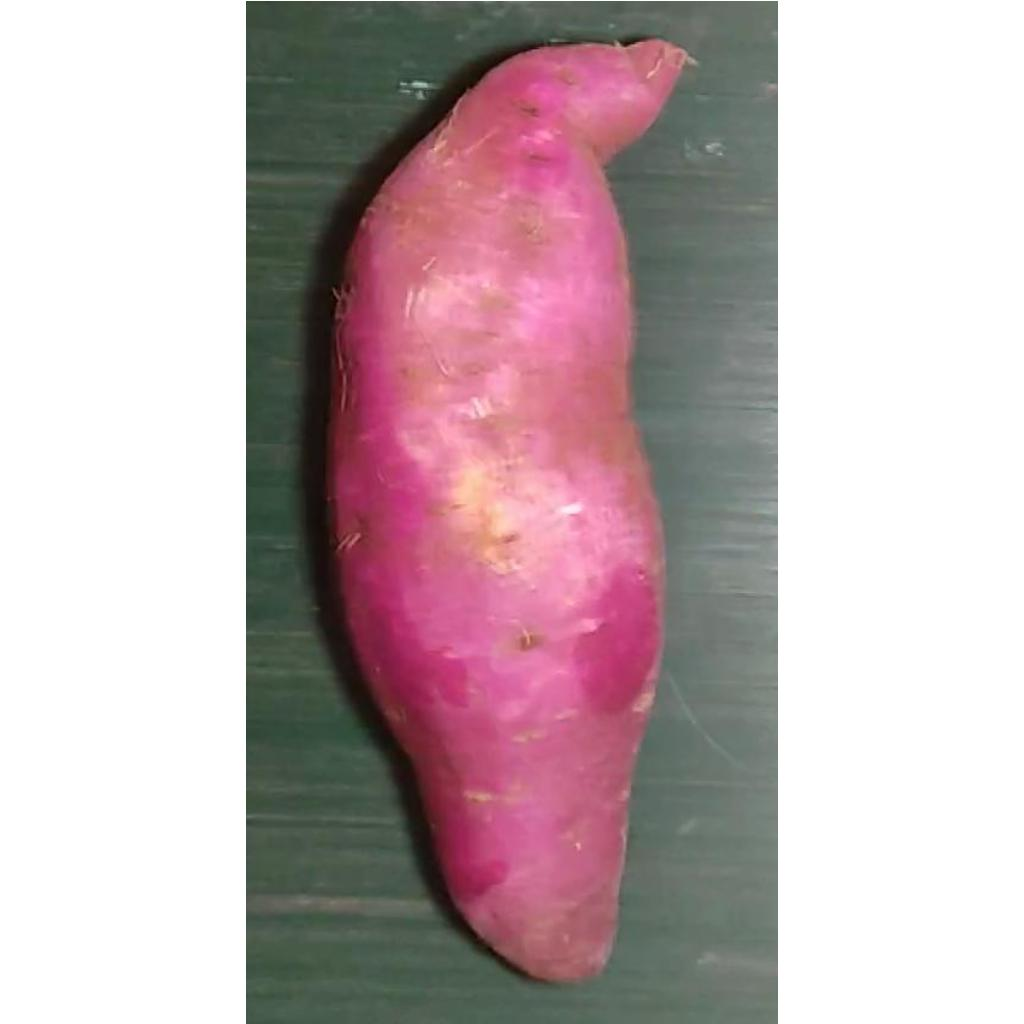Sweet Potato: (326, 39, 697, 989)
